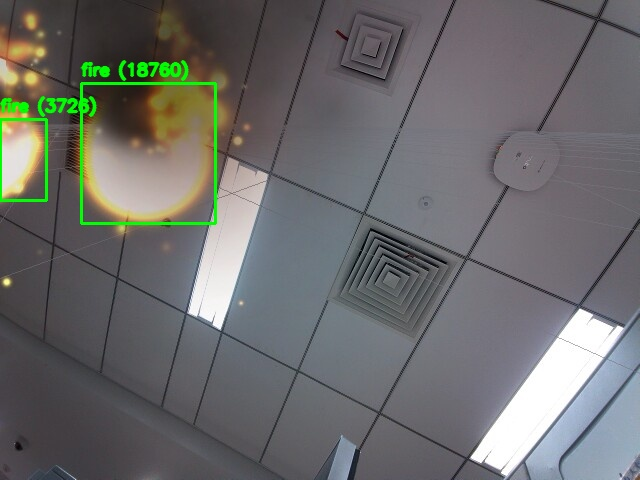fire: (81, 83, 215, 223), (0, 119, 46, 200)
